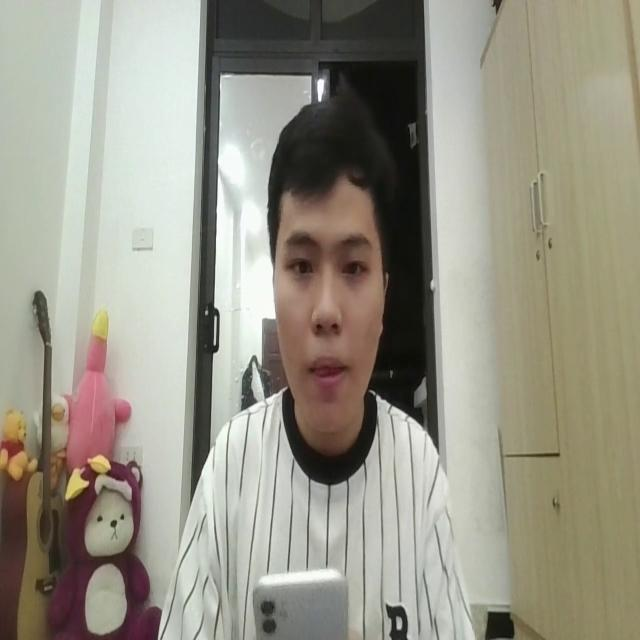phone: (252, 557, 351, 640)
student: (159, 90, 475, 640)
